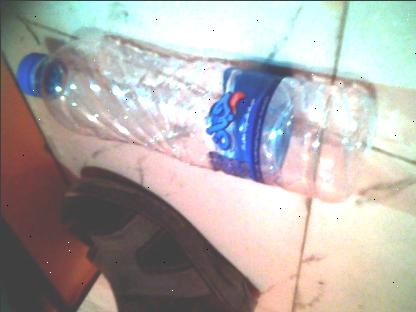Plastic Bottle: (12, 25, 372, 211)
